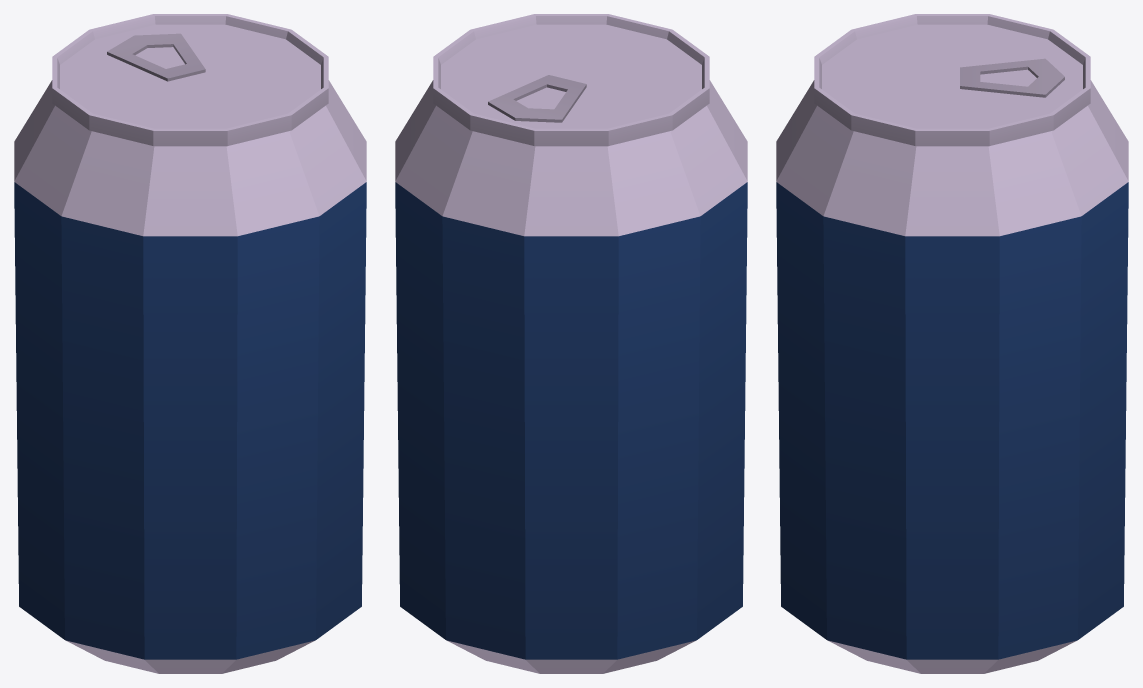
The model's file is Prop_Can_02.obj.
3 views of the same model, side by side, from view 1: azimuth 30°, elevation 25°; view 2: azimuth 150°, elevation 25°; view 3: azimuth 270°, elevation 25° (orthographic).
Parts seen in each view (by area): view 1: Prop_Can_02; view 2: Prop_Can_02; view 3: Prop_Can_02.
Part boxes in pixels (left/top/right/bottom): Prop_Can_02: left=14, top=14, right=366, bottom=673; Prop_Can_02: left=395, top=14, right=747, bottom=673; Prop_Can_02: left=776, top=14, right=1128, bottom=673.
Size of the model in its own units: 0.11 by 0.19 by 0.11.
1 material, 1 textured.
